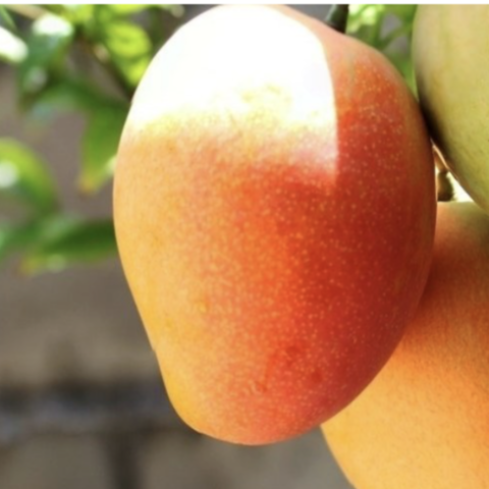mango: (84, 2, 483, 489)
